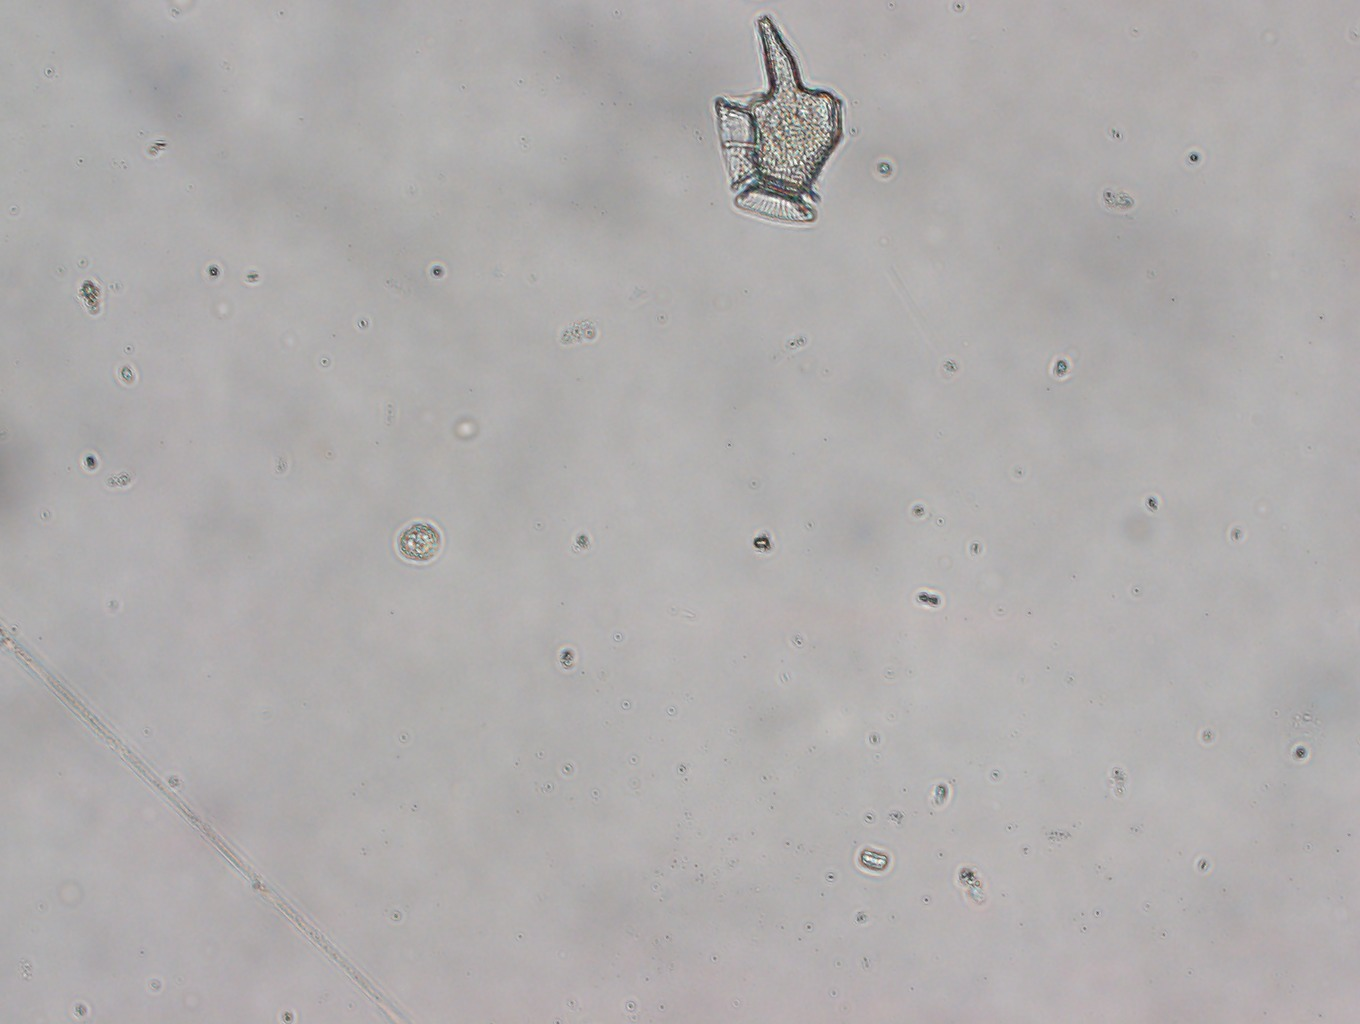dinophysis caudata: (712, 13, 848, 226)
